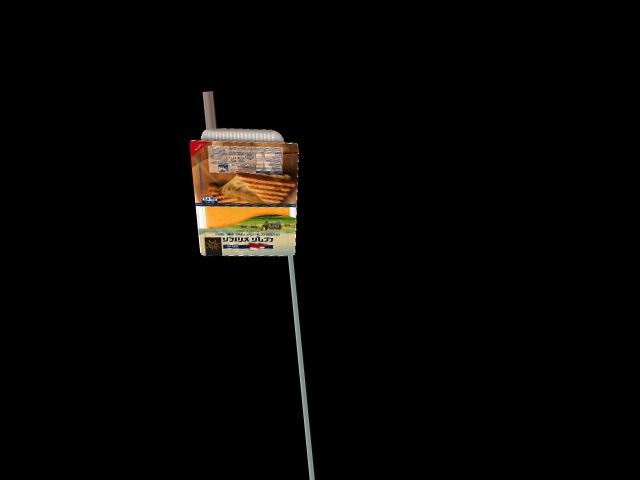cheese: (192, 119, 305, 263)
